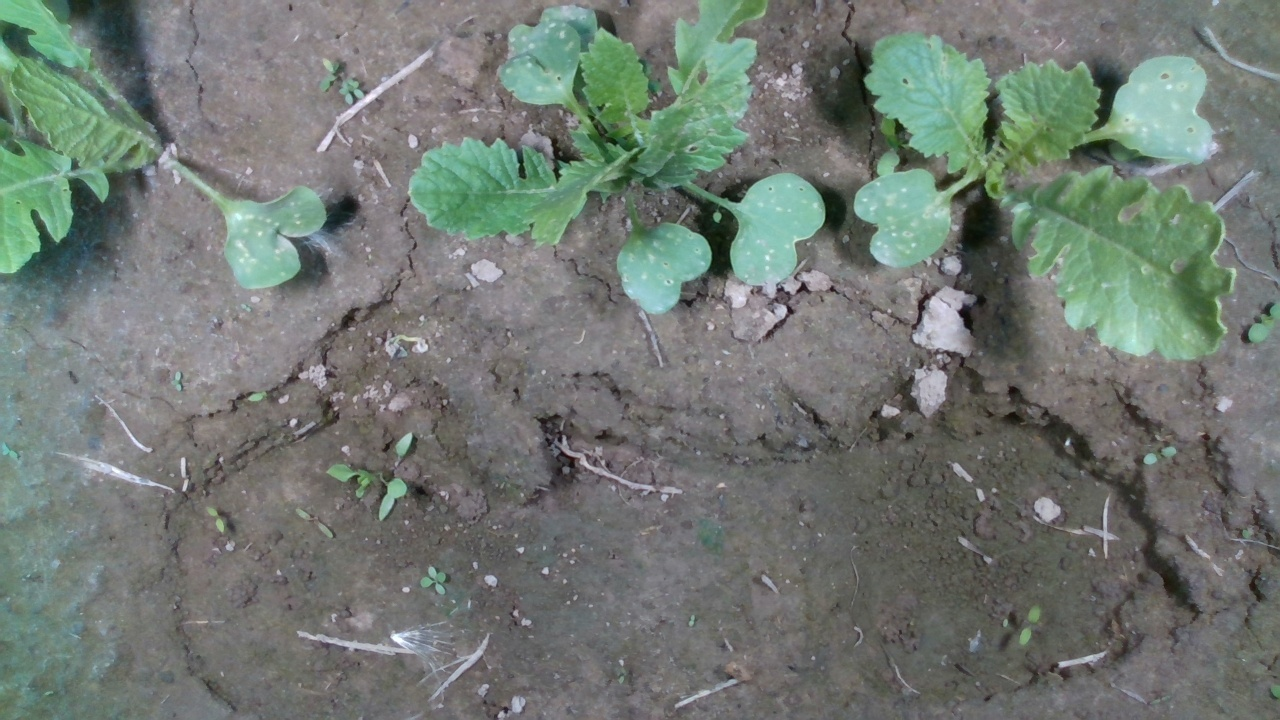weed: (294, 507, 334, 539), (1018, 602, 1041, 647), (420, 564, 448, 596), (1141, 445, 1177, 466), (206, 506, 225, 536), (170, 370, 183, 392), (246, 389, 268, 402)
